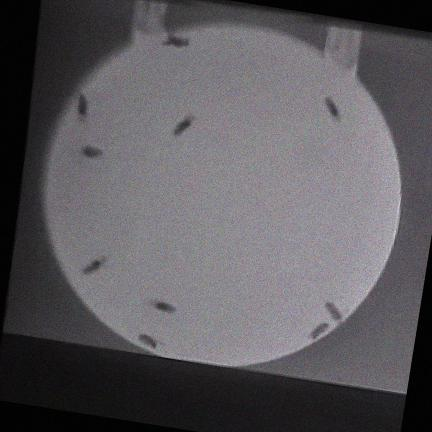fly: (81, 257, 104, 275), (172, 116, 192, 135), (323, 303, 341, 322), (162, 35, 188, 48), (309, 324, 328, 341), (325, 99, 340, 120), (76, 94, 87, 122), (138, 334, 156, 348), (152, 301, 174, 312), (81, 146, 101, 158)
